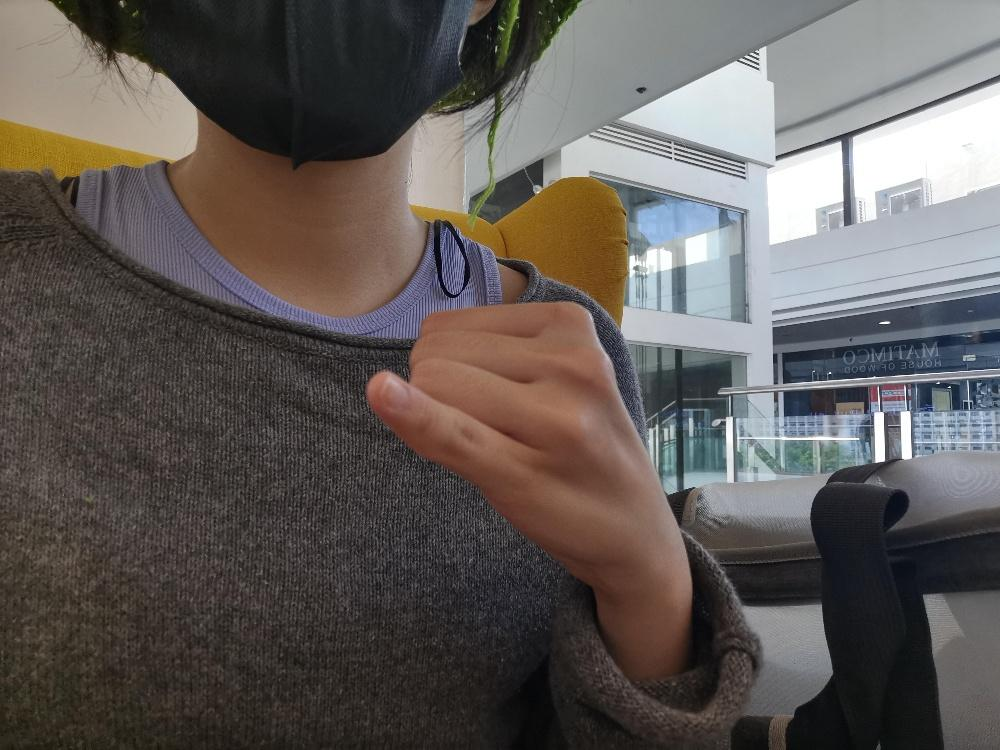j: (362, 297, 683, 598)
